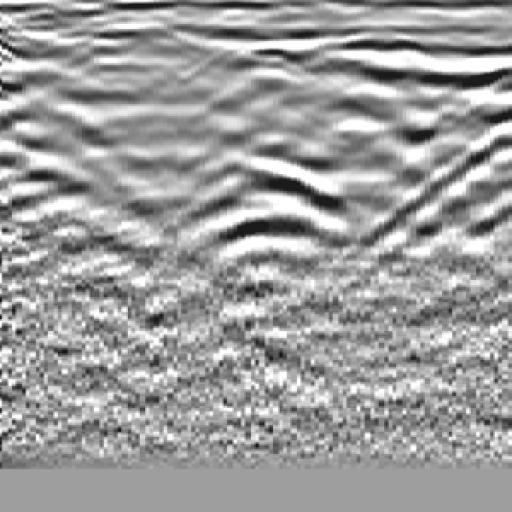metalic: (174, 30, 364, 292)
nonmetalic: (393, 36, 512, 275)
